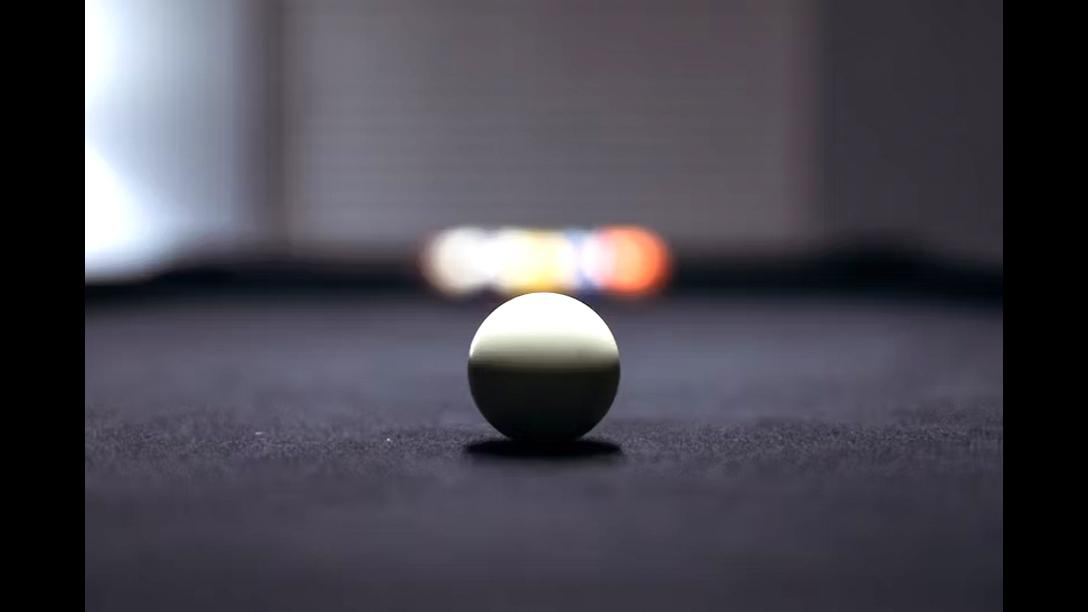Table-Tennis-Ball: (470, 291, 618, 439)
